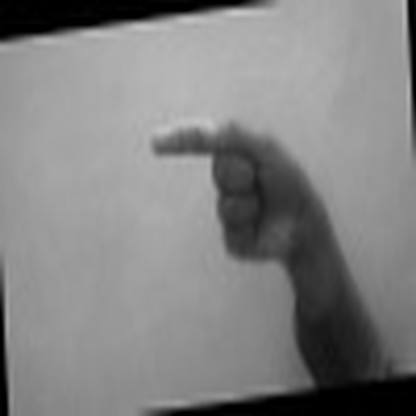g: (145, 111, 324, 270)
